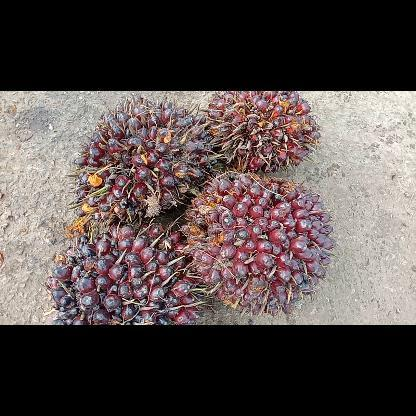Kurang masak: (70, 93, 220, 223), (45, 218, 207, 324), (202, 90, 324, 172)
TBS masak: (182, 168, 336, 316)
